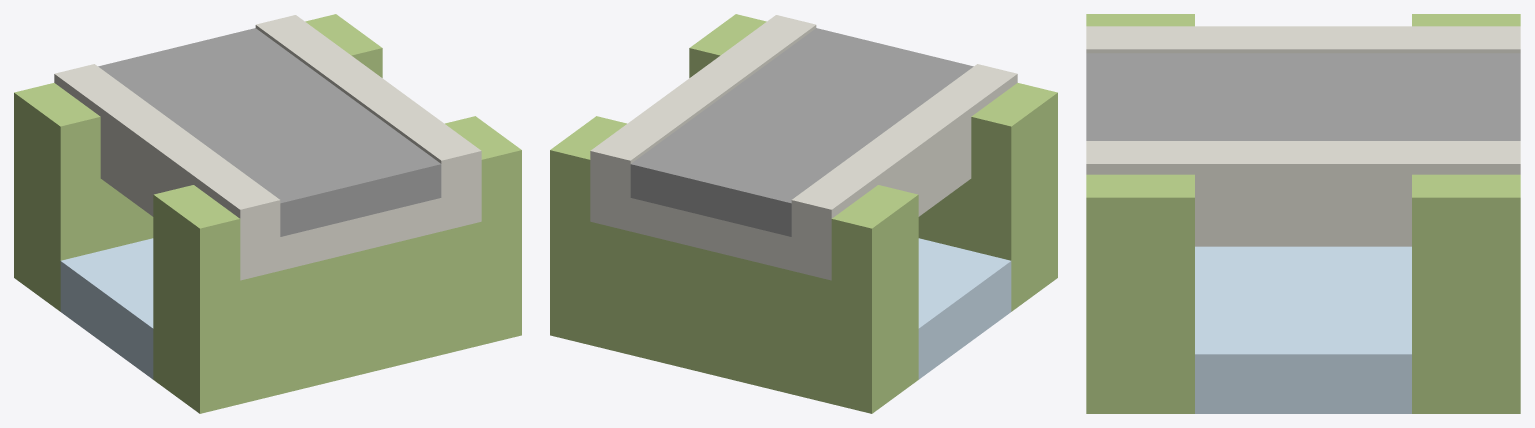
Rendered from tile159.glb.
3 views of the same model, side by side, from view 1: azimuth 30°, elevation 25°; view 2: azimuth 150°, elevation 25°; view 3: azimuth 270°, elevation 25° (orthographic). The views are drawn at different scales.
Visible parts, largest first — view 1: tile159; view 2: tile159; view 3: tile159.
Boxes of the visible parts, x1,y1,x2,y2 form: tile159: [14, 14, 521, 413]; tile159: [550, 14, 1057, 413]; tile159: [1086, 14, 1520, 413].
Bounding box in the file's own units: 1 × 0.5767 × 1.
